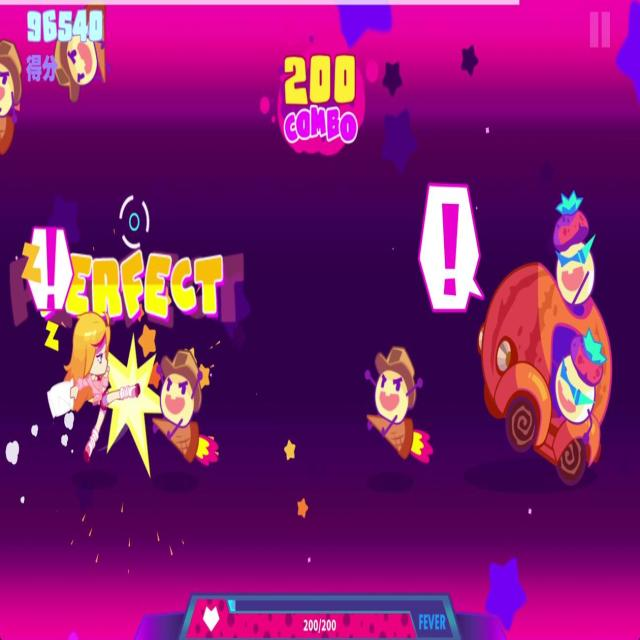cheboss: (473, 182, 618, 492)
qiu: (363, 342, 435, 469), (150, 344, 220, 474), (53, 11, 114, 109)
